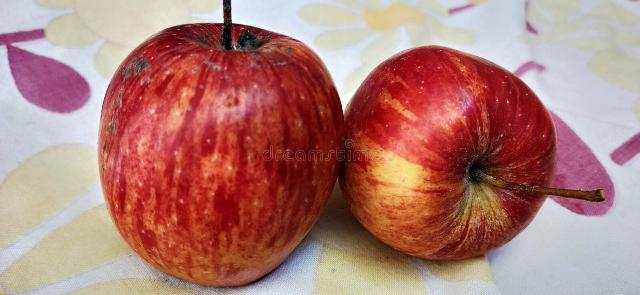Apples: (98, 18, 346, 288), (344, 44, 558, 262)
